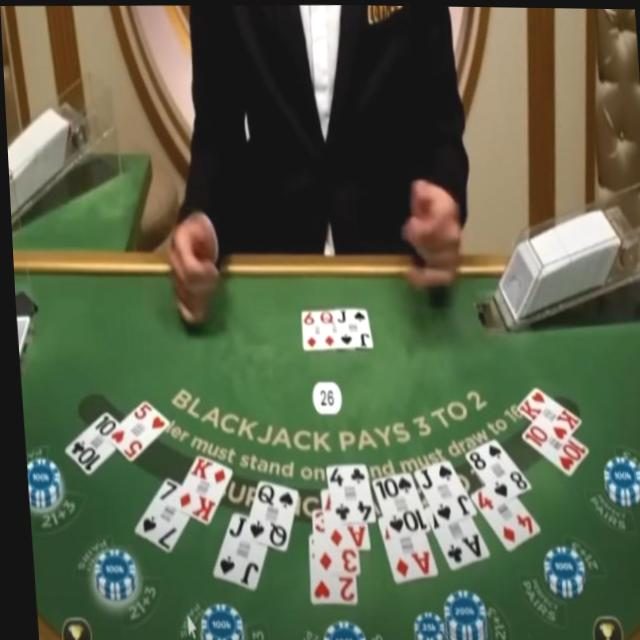Card-10: (517, 411, 584, 475), (367, 470, 424, 541), (59, 409, 115, 476)
Card-2: (302, 533, 350, 603)
Card-3: (306, 507, 353, 574)
Card-4: (465, 484, 535, 550), (321, 462, 370, 521)
Card-5: (102, 398, 165, 460)
Card-6: (298, 309, 319, 348)
Card-7: (129, 476, 183, 553)
Card-8: (460, 437, 527, 502)
Card-A: (419, 506, 484, 569), (372, 515, 432, 581), (314, 486, 364, 549)
Card-J: (409, 457, 471, 527), (207, 510, 261, 590), (333, 306, 368, 347)
Card-K: (168, 453, 227, 524), (512, 384, 577, 432)
Card-Q: (239, 479, 292, 550), (315, 307, 335, 348)
